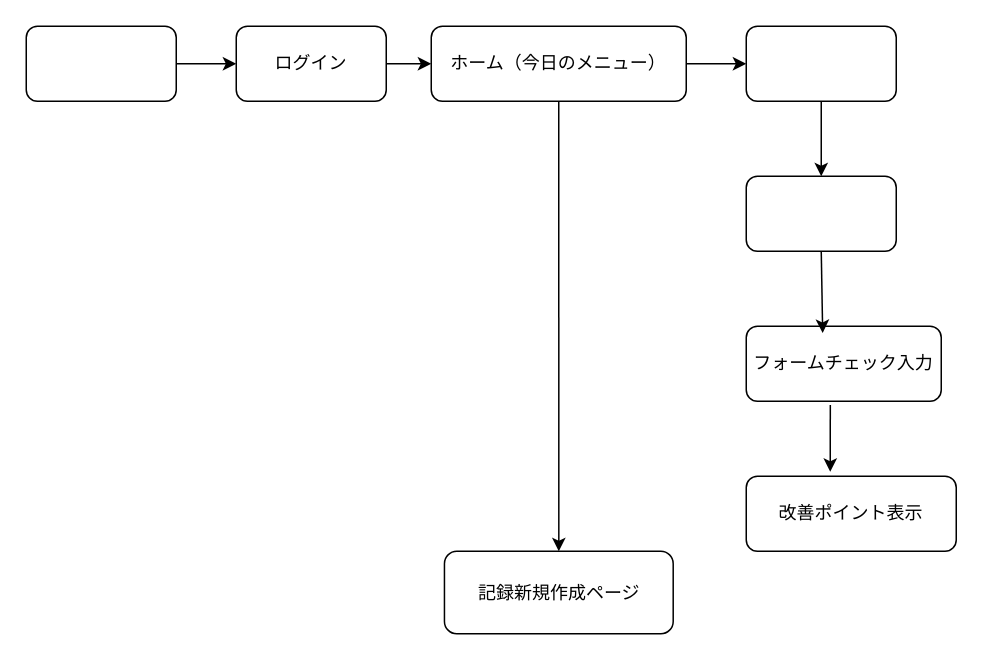
Image size: 983x660. Some labels were removed from this diagram. The box of each missing label's shape, as (x1, y1, x2, y2) in pixels:
サインアップ: (25, 25, 176, 101)
記録一覧ページ: (745, 25, 896, 101)
記録詳細ページ: (745, 175, 896, 251)
